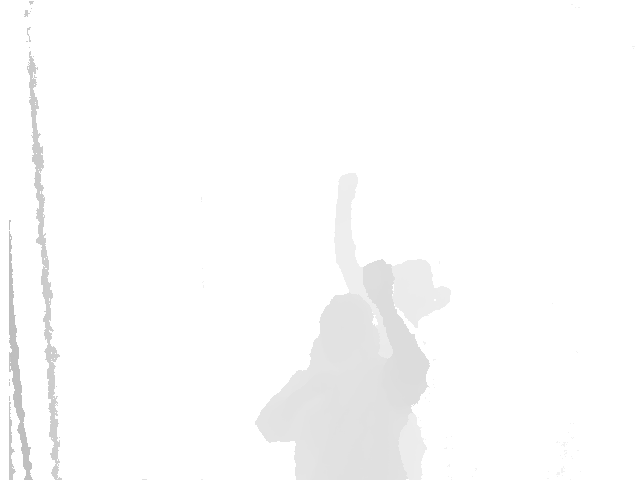hand: (336, 172, 359, 200)
head: (375, 261, 450, 315), (317, 294, 374, 358)
person: (253, 260, 432, 480), (332, 172, 450, 479)
